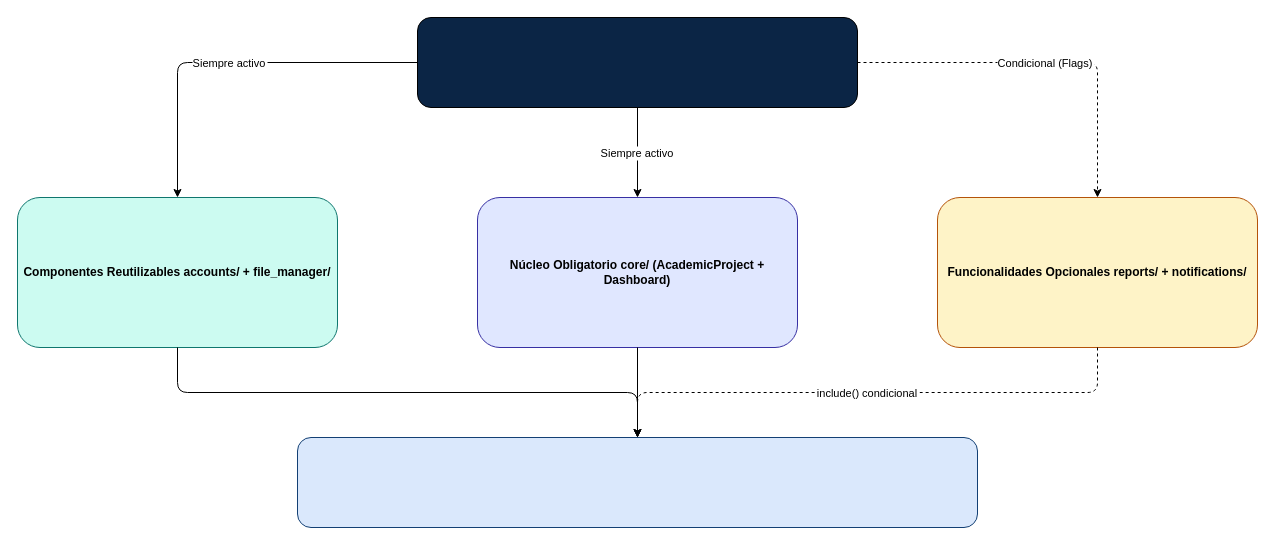
Image size: 1275x545. Some labels were removed from this diagram. The centre of each missing label's shape, as x and y in pixels:
Capa de Configuración SPL config_product.py | settings.py | urls.py: the point at 637,62
Plantillas Condicionales + Base de Datos SQLite: the point at 637,482
